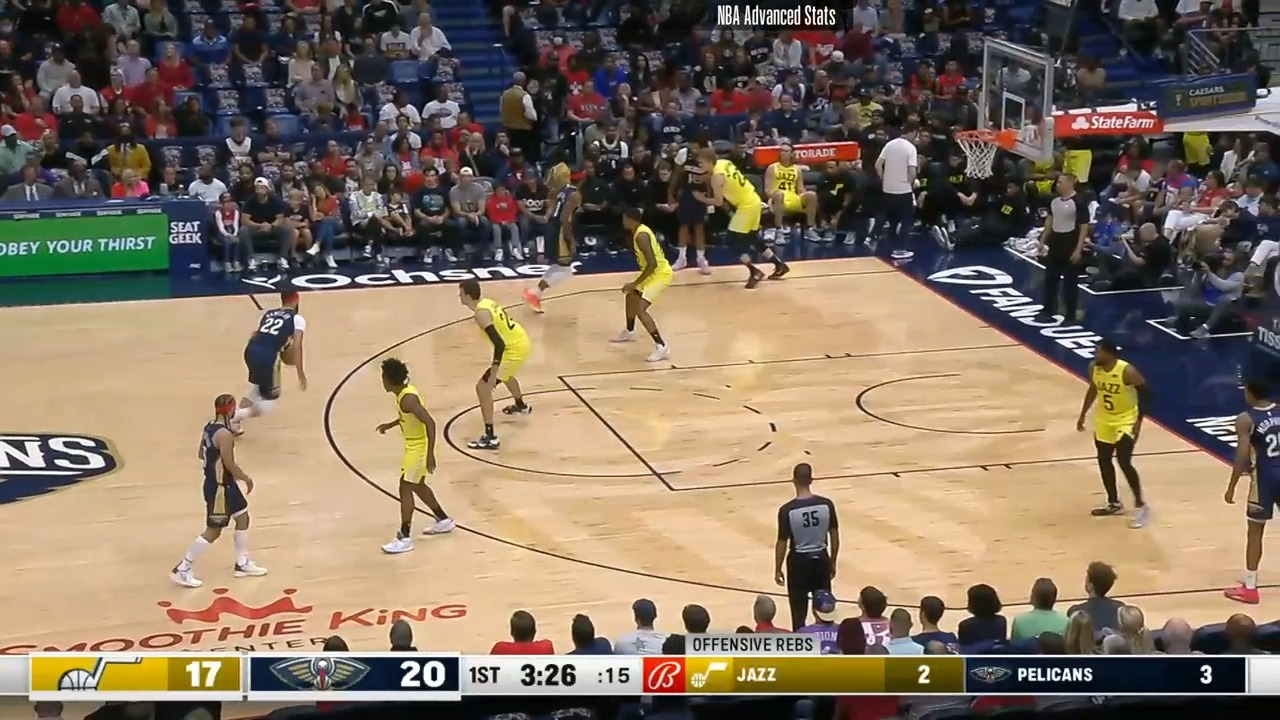net: (954, 120, 1021, 181)
player: (171, 393, 265, 589), (1075, 331, 1161, 527), (371, 359, 455, 556), (448, 281, 527, 455), (694, 148, 791, 289), (236, 287, 322, 444), (1227, 372, 1280, 605), (604, 212, 670, 366), (526, 163, 591, 316), (668, 134, 716, 278)
referee: (766, 463, 838, 627), (1029, 174, 1084, 328)
